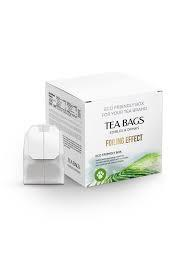cube: (48, 75, 165, 184)
